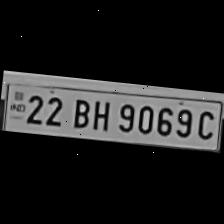0: (134, 101, 156, 136)
2: (41, 92, 67, 130), (22, 91, 46, 127)
6: (152, 103, 174, 138)
9: (112, 98, 136, 134), (172, 105, 195, 140)
B: (66, 95, 92, 131)
C: (194, 106, 217, 142)
H: (88, 96, 114, 134)
